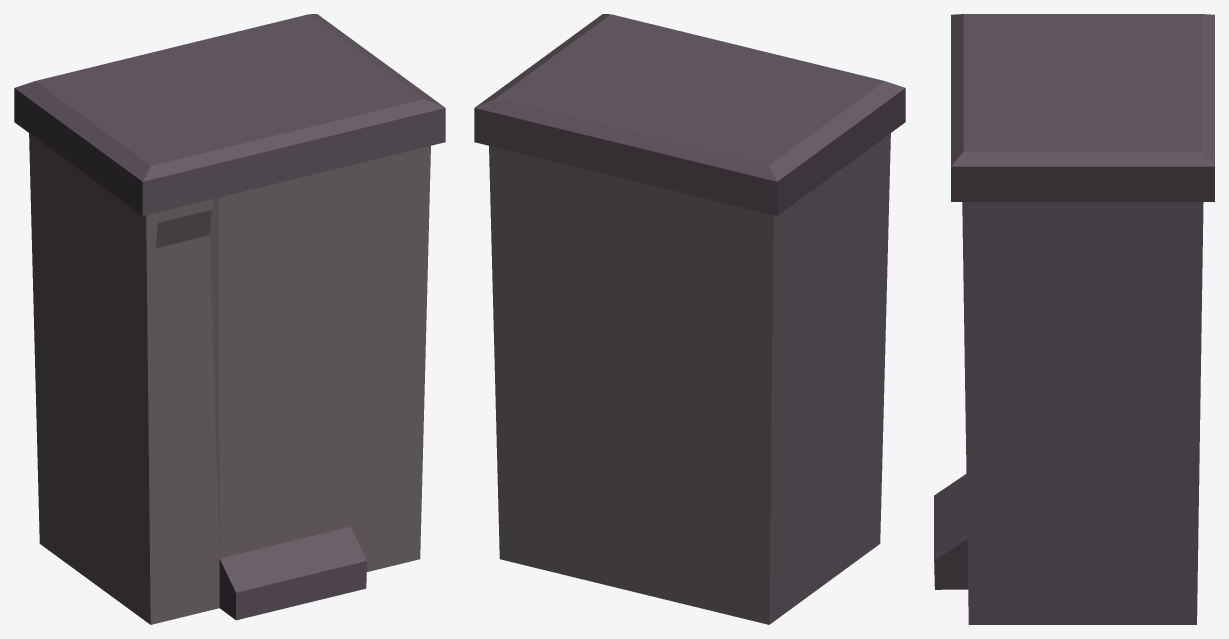
Rendered from Garbage Can.fbx.
3 renders of one model, left to right at view 1: azimuth 30°, elevation 25°; view 2: azimuth 150°, elevation 25°; view 3: azimuth 270°, elevation 25°, orthographic. The views are drawn at different scales.
Parts seen in each view (by area): view 1: Garbage Can; view 2: Garbage Can; view 3: Garbage Can.
Boxes of the visible parts, x1=… form: Garbage Can: x1=14, y1=14, x2=445, y2=624; Garbage Can: x1=474, y1=14, x2=905, y2=624; Garbage Can: x1=934, y1=14, x2=1214, y2=624.
Size of the model in its own units: 91.55 by 133 by 71.43.
